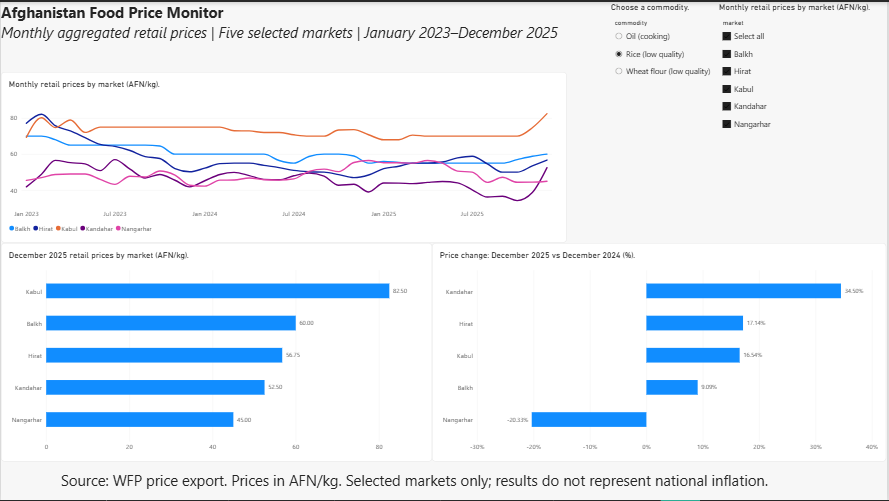

What the dashboard file says about the page in this screenshot:
{"tool":"powerbi","page":{"name":"Price Overview","canvas":[1920,1080],"ordinal":2},"visuals":[{"type":"slicer","title":"Choose a commodity.","fields":{"Values":["FoodPrices.commodity"]},"box":[1322.8,0,234.3,181.4],"z":1},{"type":"lineChart","title":"Monthly retail prices by market (AFN/kg).","fields":{"Category":["FoodPrices.price_month"],"Series":["FoodPrices.market"],"Y":["FoodPrices.Average Price AFN per KG"]},"box":[0,151.2,1227.1,370.4],"z":2},{"type":"slicer","title":"Monthly retail prices by market (AFN/kg).","fields":{"Values":["FoodPrices.market"]},"box":[1557.2,0,362.8,299.8],"z":3},{"type":"clusteredBarChart","title":"December 2025 retail prices by market (AFN/kg).","fields":{"Category":["FoodPrices.market"],"Y":["FoodPrices.Latest Price AFN per KG"]},"box":[0,521.6,934.8,473.7],"z":5},{"type":"clusteredBarChart","title":"Price change: December 2025 vs December 2024 (%).","fields":{"Category":["FoodPrices.market"],"Y":["FoodPrices.Latest Yearly Change %"]},"box":[934.8,521.6,985.2,473.7],"z":6},{"type":"textbox","box":[0,0,1227.1,115.9],"z":7},{"type":"textbox","box":[131,1015.4,1741.1,65.5],"z":8}]}

Visuals, with their boxes in screenshot pixels (x1, y1, x2, y2), scaled from the page's 1920x1080 canvas onto the 889x501 screenshot:
"Choose a commodity." slicer: x1=612 y1=0 x2=721 y2=84
"Monthly retail prices by market (AFN/kg)." lineChart: x1=0 y1=70 x2=568 y2=242
"Monthly retail prices by market (AFN/kg)." slicer: x1=721 y1=0 x2=888 y2=139
"December 2025 retail prices by market (AFN/kg)." clusteredBarChart: x1=0 y1=242 x2=433 y2=462
"Price change: December 2025 vs December 2024 (%)." clusteredBarChart: x1=433 y1=242 x2=888 y2=462
textbox: x1=0 y1=0 x2=568 y2=54
textbox: x1=61 y1=471 x2=867 y2=500
